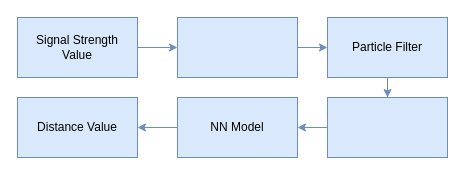
The diagram is 465 pixels wide and 175 high, and some of its shapes have lost their labels. Here are the shapes that lost their labels. From the top down, the box of each, then its label:
(176, 16, 298, 78): Low Pass Filter
(326, 96, 448, 158): Moving Average Filter
